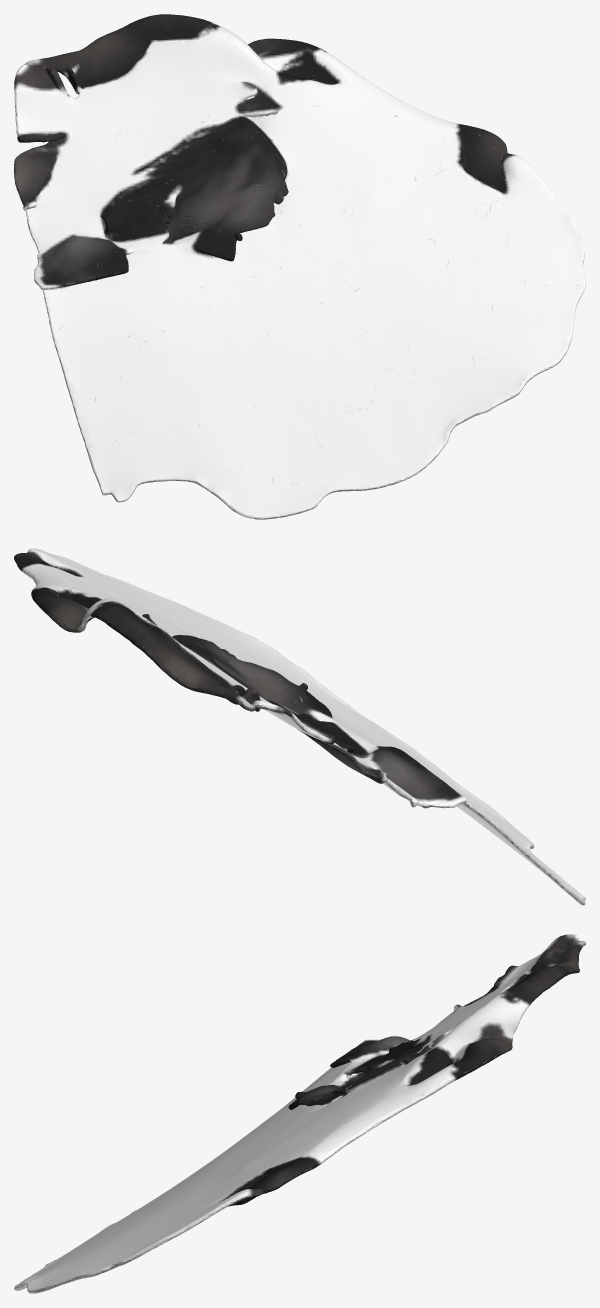
The picture shows the model from 3 angles, top to bottom: view 1: azimuth 30°, elevation 25°; view 2: azimuth 150°, elevation 25°; view 3: azimuth 270°, elevation 25°; orthographic projection. The views are drawn at different scales.
Parts seen in each view (by area): view 1: world; view 2: world; view 3: world.
Part boxes in pixels (x1,y1,x2,y2): world: (14,14,585,519); world: (14,548,585,905); world: (14,934,585,1293).
Bounding box in the file's own units: 0.12 × 0.0795 × 0.1185.
Materials: 1 (1 with a texture image).
